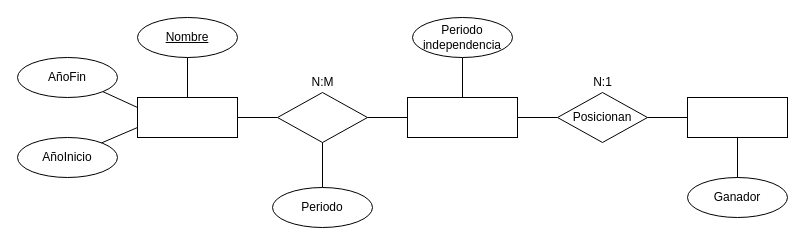
Image size: 805x245. Some labels were removed from this diagram. Each missing label, with the centre of its shape:
"BANDOS" goes at (x=737, y=117).
"GUERRA" goes at (x=187, y=117).
"PAISES" goes at (x=462, y=117).
"Participan" goes at (x=322, y=117).
